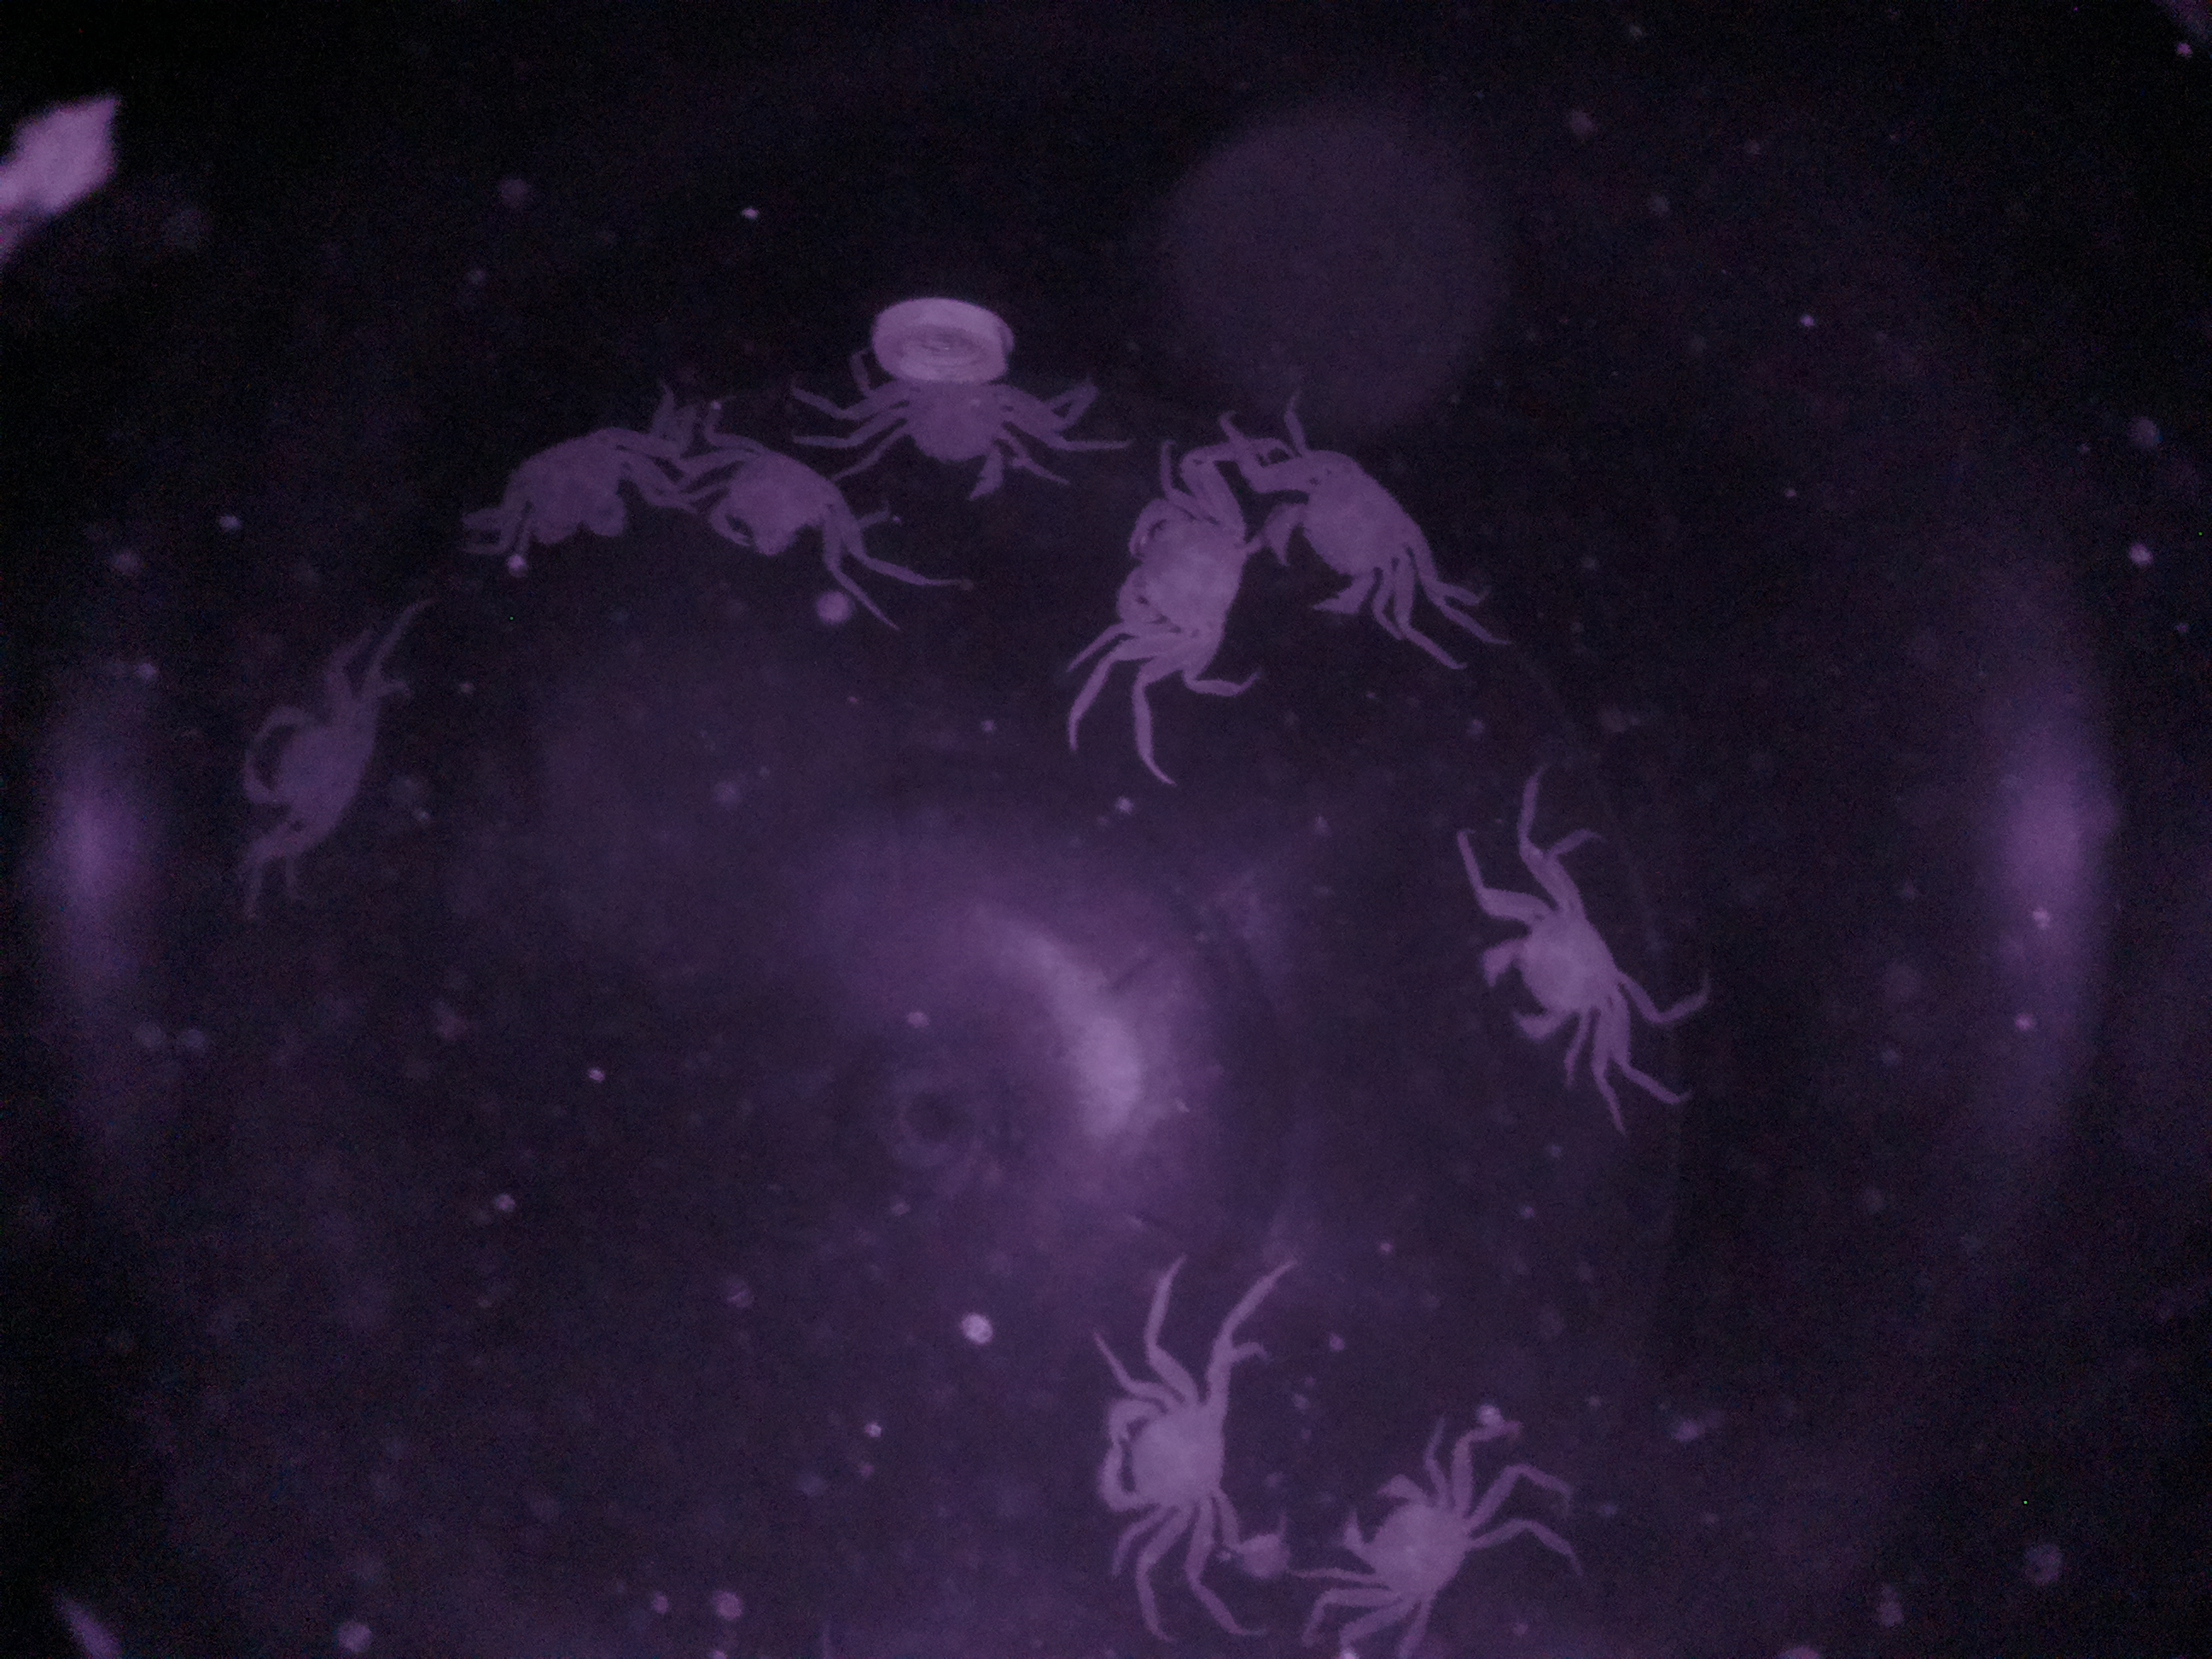Crab: (1082, 1331, 1252, 1588), (1258, 420, 1430, 652), (1106, 458, 1258, 711), (1468, 864, 1644, 1080), (1318, 1431, 1487, 1643)
